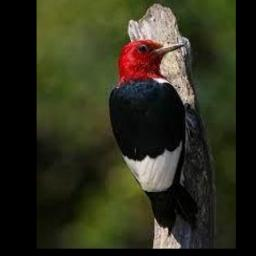Woodpecker: (106, 40, 198, 234)
